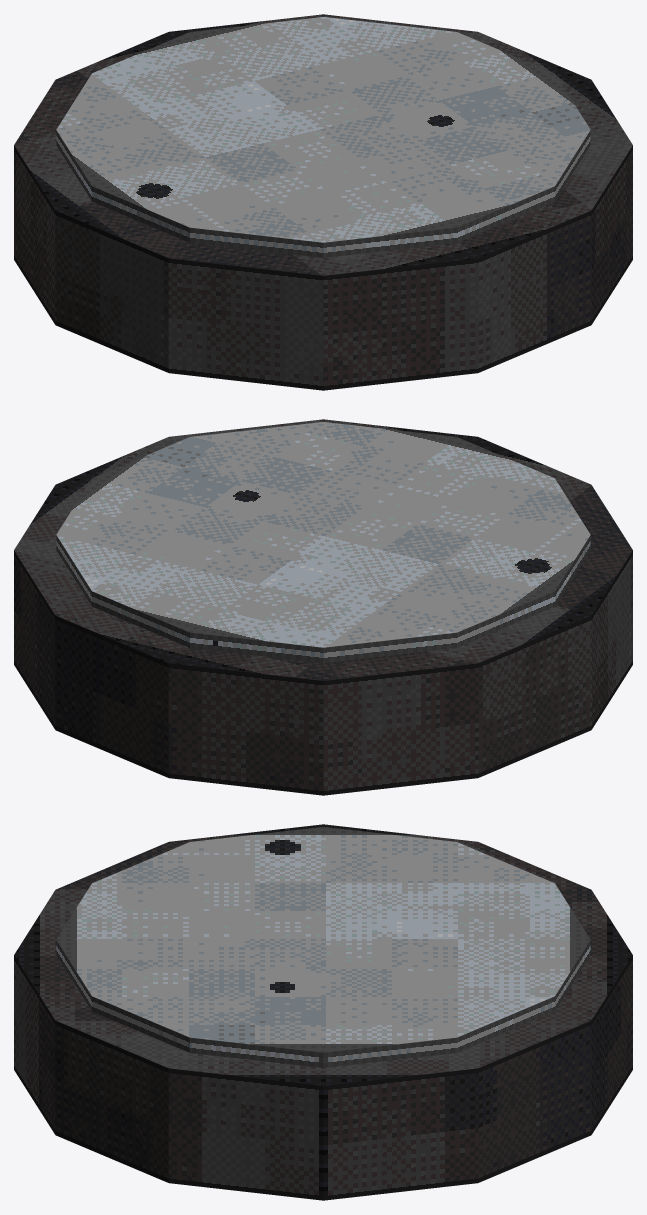
Rendered from SM_Clock_Wall_01.glb.
3 views of the same model, one above another, from view 1: azimuth 30°, elevation 25°; view 2: azimuth 150°, elevation 25°; view 3: azimuth 270°, elevation 25° (orthographic).
Visible parts, largest first — view 1: SM_Clock_Wall_01; view 2: SM_Clock_Wall_01; view 3: SM_Clock_Wall_01.
Part boxes in pixels (left/top/right/bottom): SM_Clock_Wall_01: left=14, top=14, right=632, bottom=390; SM_Clock_Wall_01: left=14, top=419, right=632, bottom=795; SM_Clock_Wall_01: left=14, top=824, right=632, bottom=1200.
Size of the model in its own units: 0.22 by 0.051 by 0.22.
Materials: 1 (1 with a texture image).
